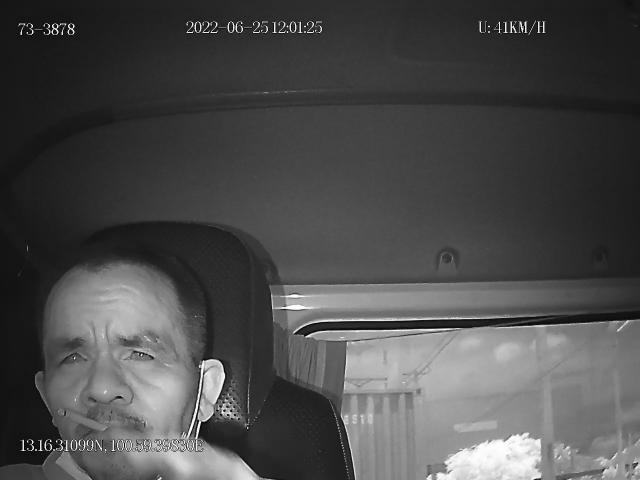SafeDriving: (115, 334, 165, 369), (52, 338, 94, 378)
Smoking: (55, 404, 109, 432)
